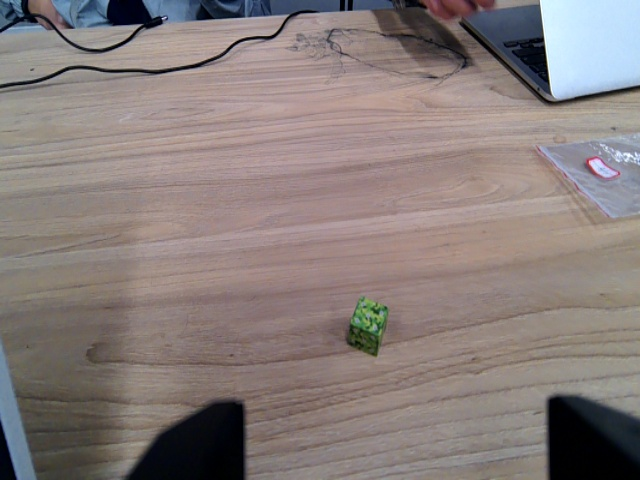grass: (342, 294, 393, 357)
